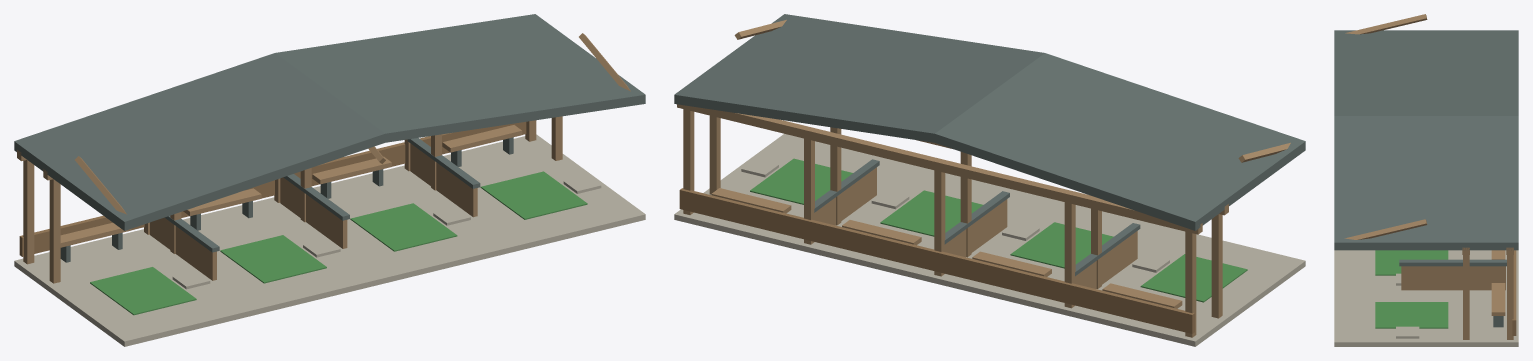
The model's file is range_shelter_01.glb.
3 views of the same model, side by side, from view 1: azimuth 30°, elevation 25°; view 2: azimuth 150°, elevation 25°; view 3: azimuth 270°, elevation 25° (orthographic). The views are drawn at different scales.
Visible parts, largest first — view 1: Range_shelter_01; view 2: Range_shelter_01; view 3: Range_shelter_01.
Boxes of the visible parts, x1,y1,x2,y2 form: Range_shelter_01: [14, 14, 645, 346]; Range_shelter_01: [674, 14, 1305, 346]; Range_shelter_01: [1334, 14, 1518, 346].
Size of the model in its own units: 12 by 3.29 by 4.4.
